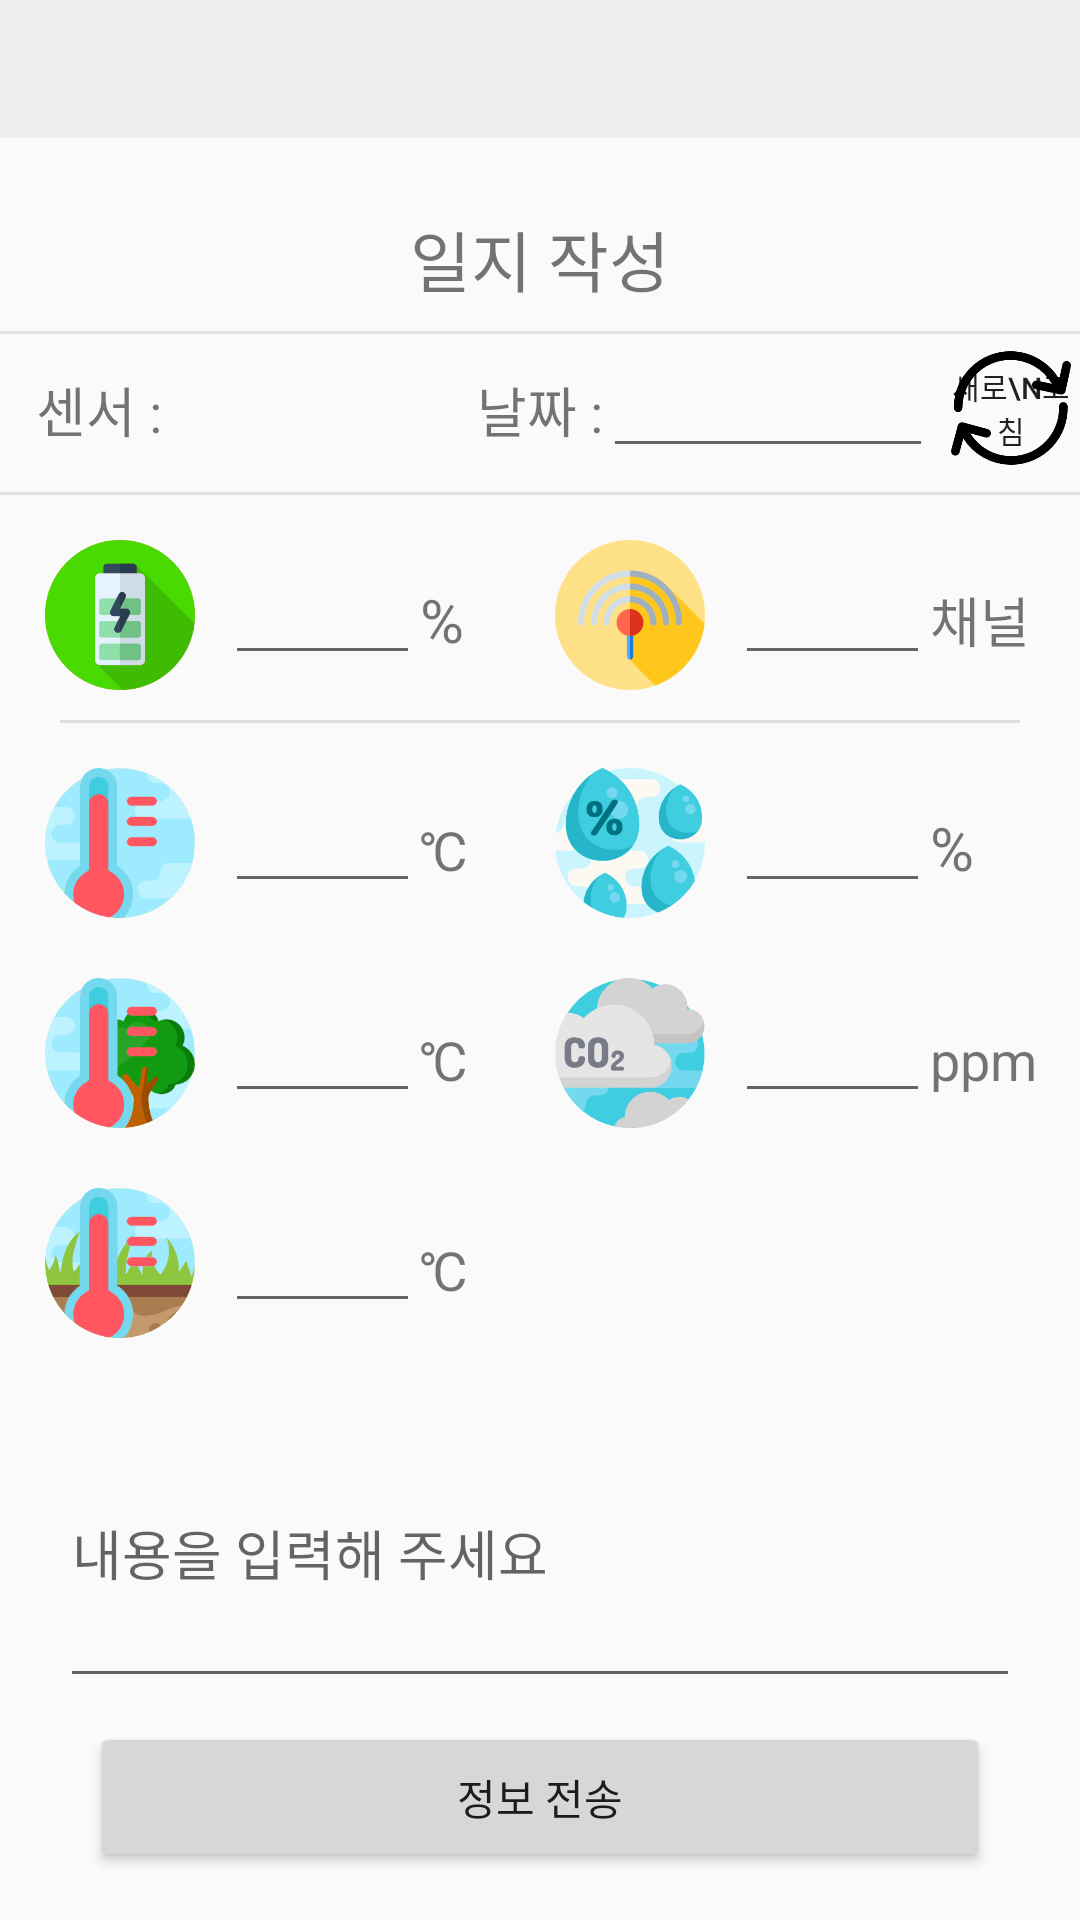

Point at icon controls on the screen. Image size 1080x1920, points as [x,y].
battery: [120,615]
channel: [630,615]
humid: [630,843]
roott: [120,1053]
soilt: [120,1263]
